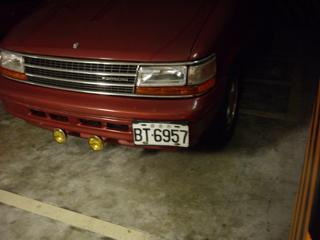plate: (129, 120, 190, 149)
